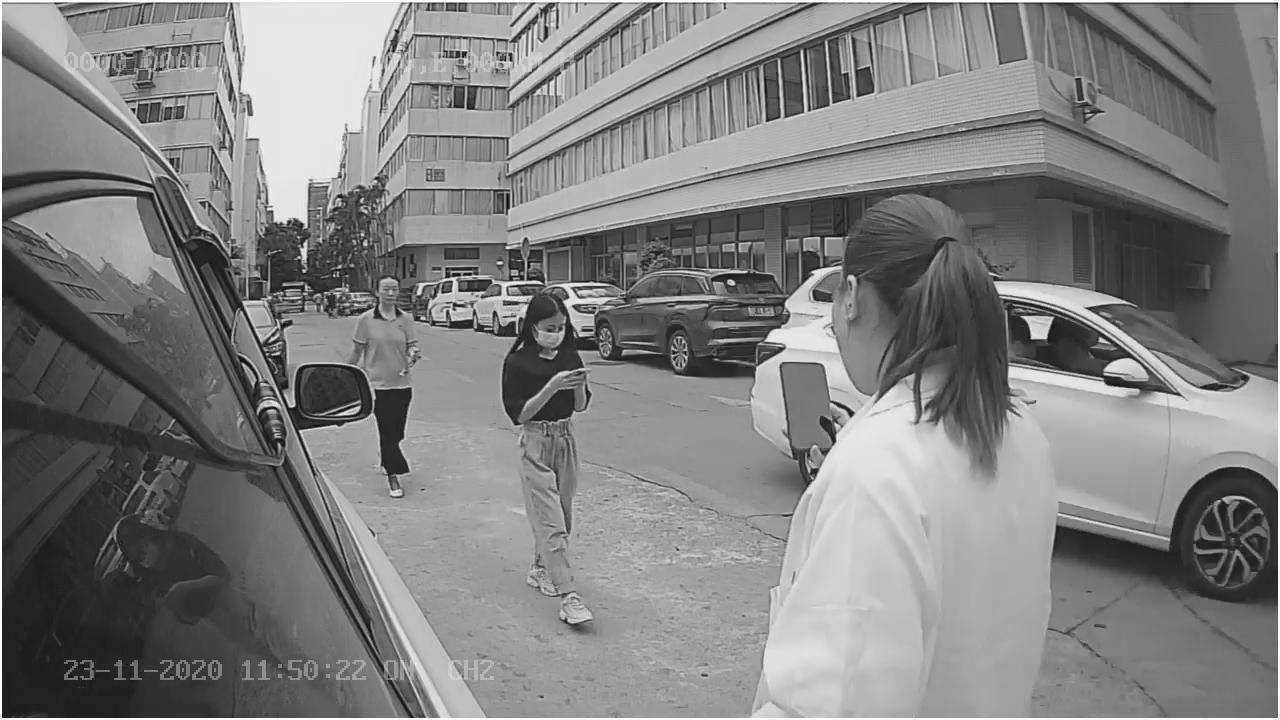person: (503, 291, 597, 629)
